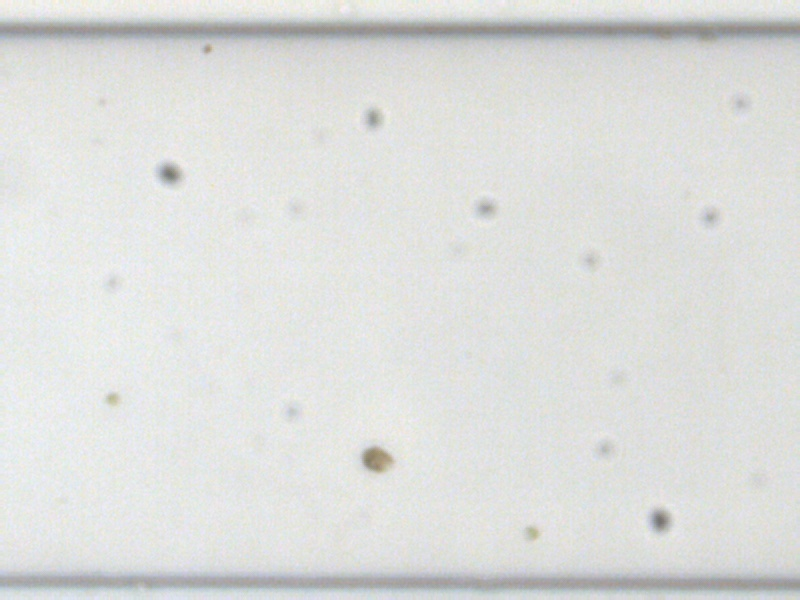Chlorella: (104, 390, 120, 405), (524, 525, 537, 540), (201, 44, 212, 53)
Dunaliella salina: (360, 444, 394, 473)
